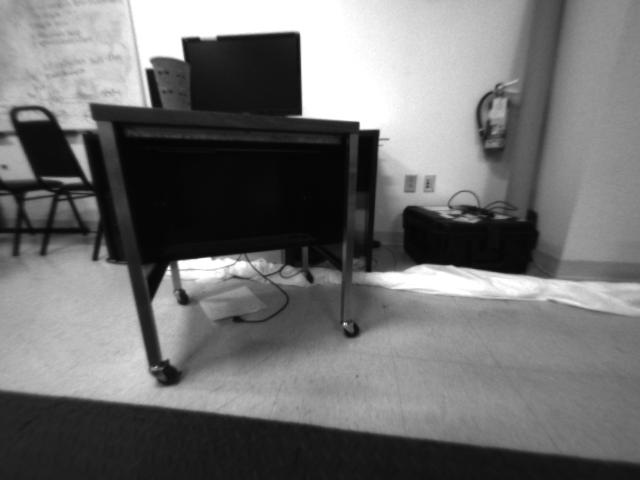coffee_cup: (145, 53, 194, 110)
